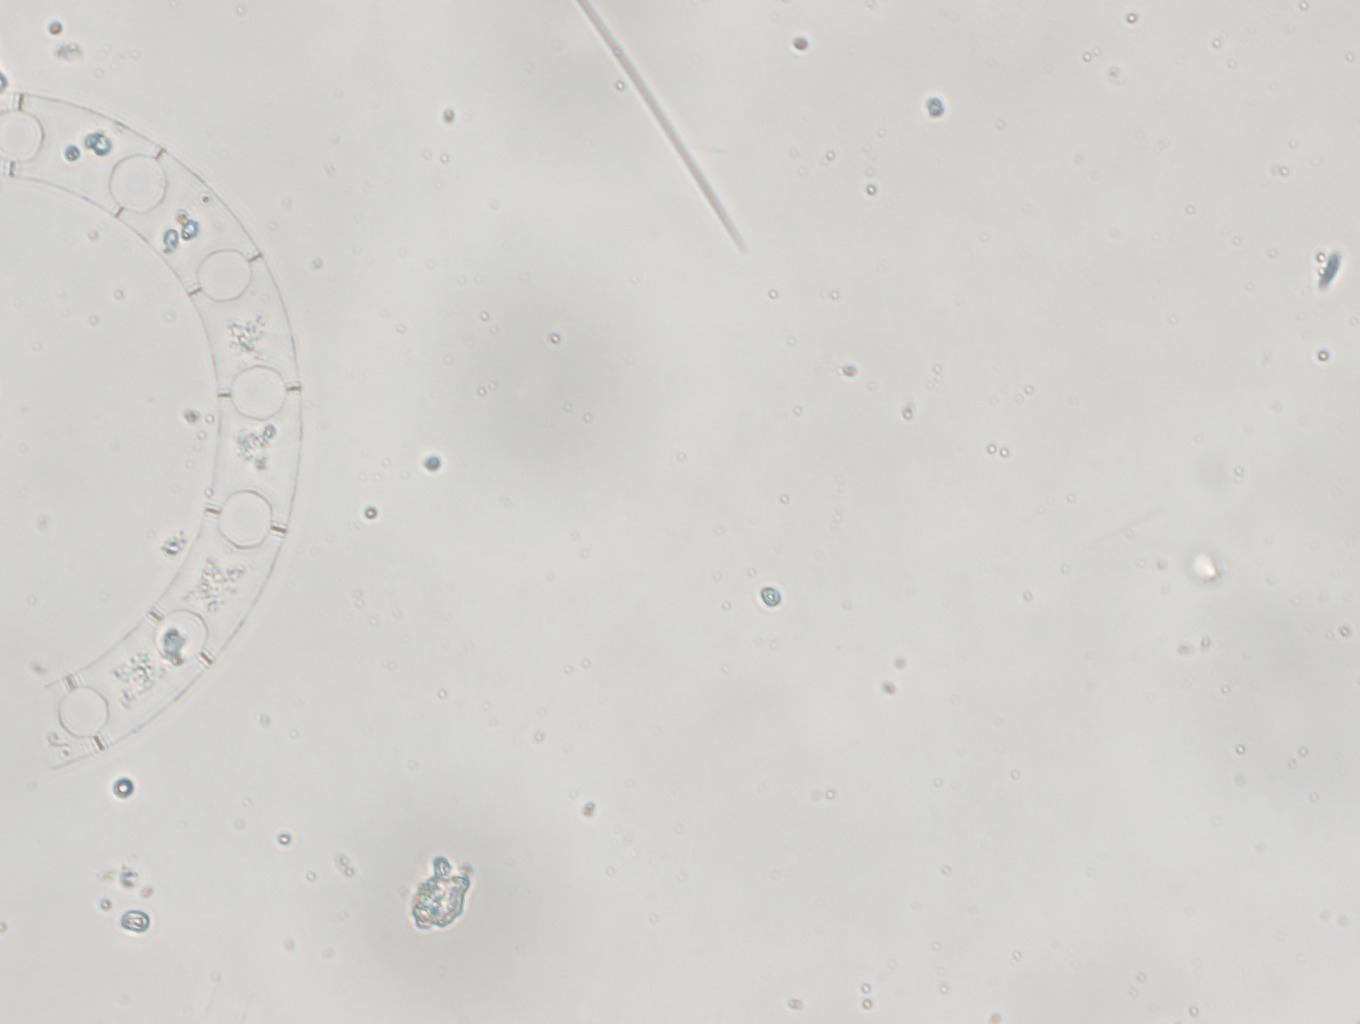eucampia: (6, 89, 307, 774)
